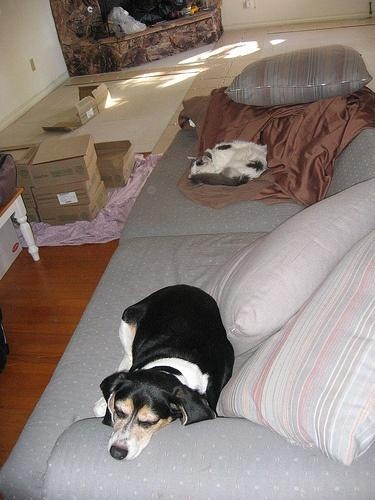cat: (187, 139, 270, 186)
dog: (94, 285, 237, 461)
sofa: (2, 86, 374, 500)
